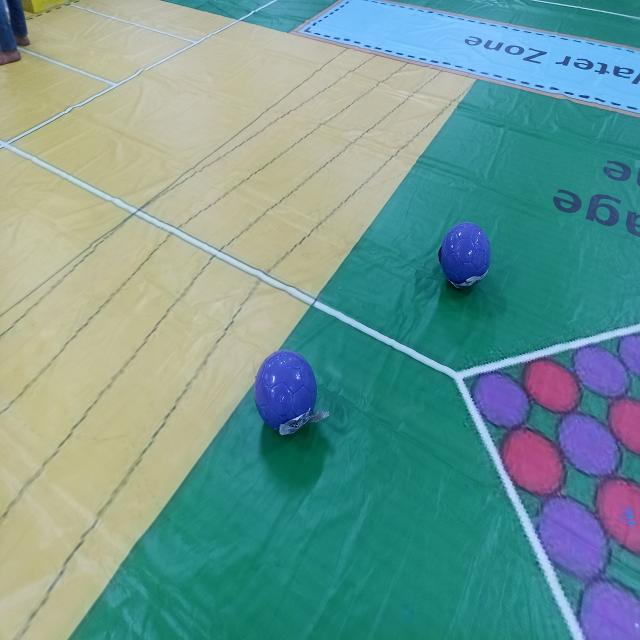purple_ball: (256, 352, 316, 429), (441, 225, 490, 286)
